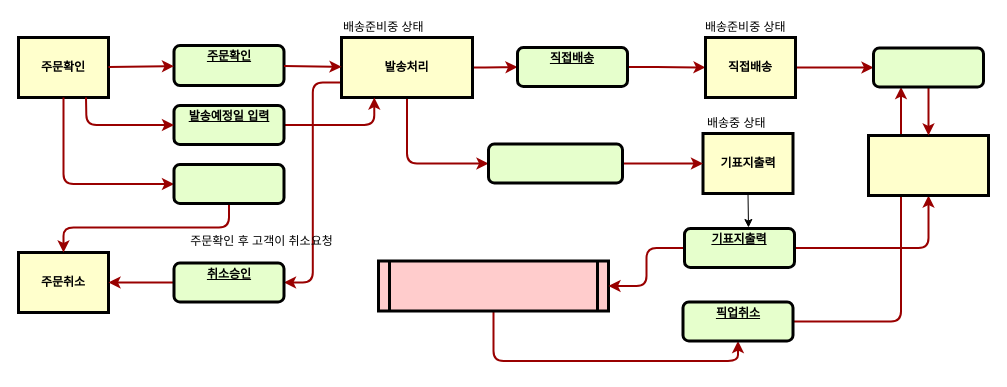
Image size: 1007x387. Some labels were removed from this diagram. Each missing label, with the box of its shape:
배송등록: (872, 46, 984, 88)
배송중/배송완료: (866, 134, 990, 196)
송장번호 생성/발송: (486, 142, 624, 184)
우편 물류 시스템: (376, 259, 610, 312)
판매취소: (172, 162, 285, 204)
